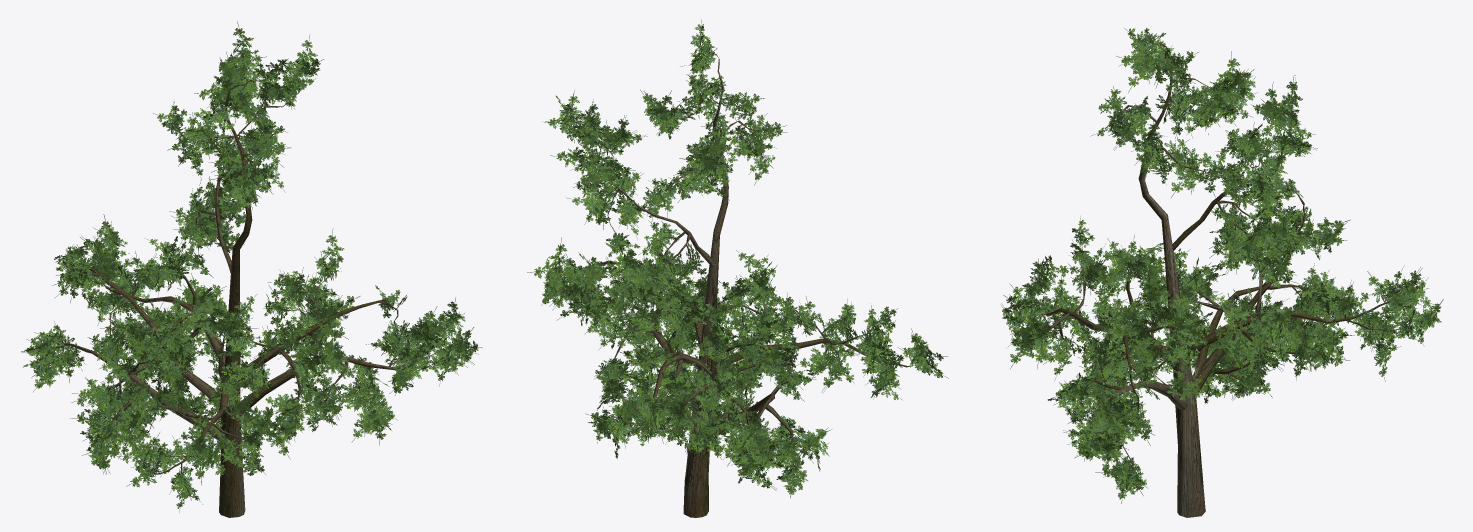
3 renders of one model, left to right at view 1: azimuth 30°, elevation 25°; view 2: azimuth 150°, elevation 25°; view 3: azimuth 270°, elevation 25°, orthographic. The views are drawn at different scales.
Visible parts, largest first — view 1: branches, branches.001; view 2: branches, branches.001; view 3: branches, branches.001.
Boxes of the visible parts, x1,y1,x2,y2 form: branches: (21,21,482,512); branches.001: (38,51,455,517); branches: (527,19,948,498); branches.001: (560,45,923,517); branches: (1000,28,1443,503); branches.001: (1017,40,1422,517).
Size of the model in its own units: 19.27 by 22.15 by 18.69.
Materials: 2 (2 with a texture image).
